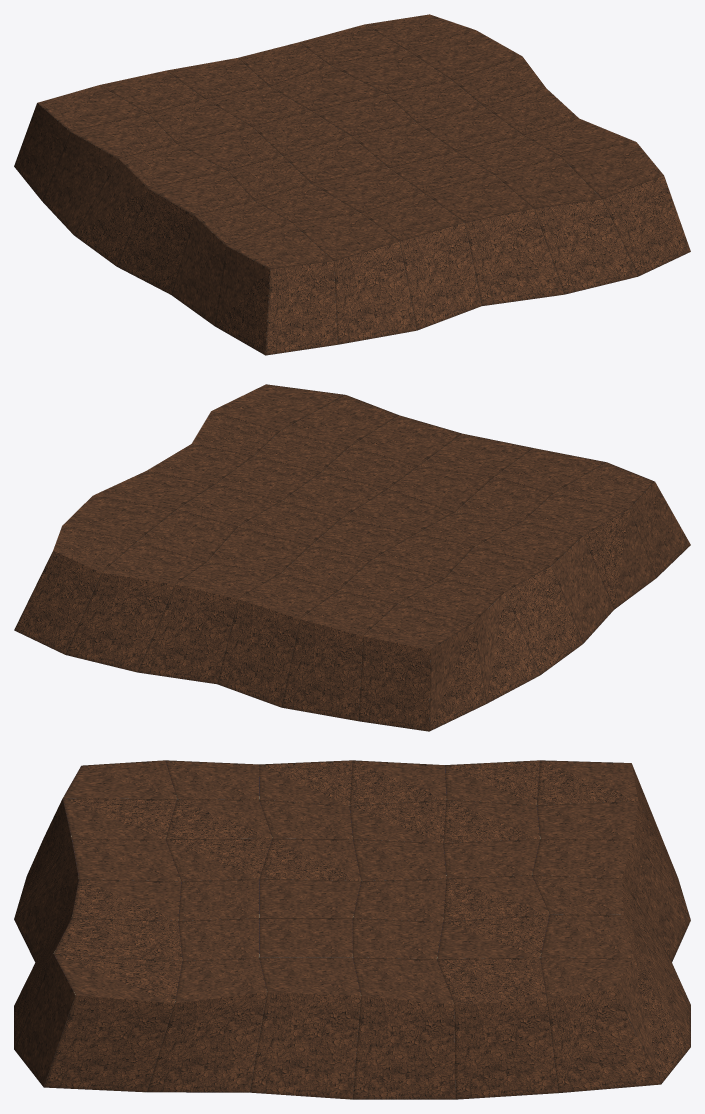
The model's file is mud_block20m.DAE.
3 views of the same model, one above another, from view 1: azimuth 30°, elevation 25°; view 2: azimuth 150°, elevation 25°; view 3: azimuth 270°, elevation 25° (orthographic). The views are drawn at different scales.
Visible parts, largest first — view 1: Box01; view 2: Box01; view 3: Box01.
Boxes of the visible parts, x1,y1,x2,y2 form: Box01: [14, 14, 690, 355]; Box01: [14, 384, 690, 731]; Box01: [14, 760, 690, 1099].
Size of the model in its own units: 17.89 by 2.64 by 18.69.
